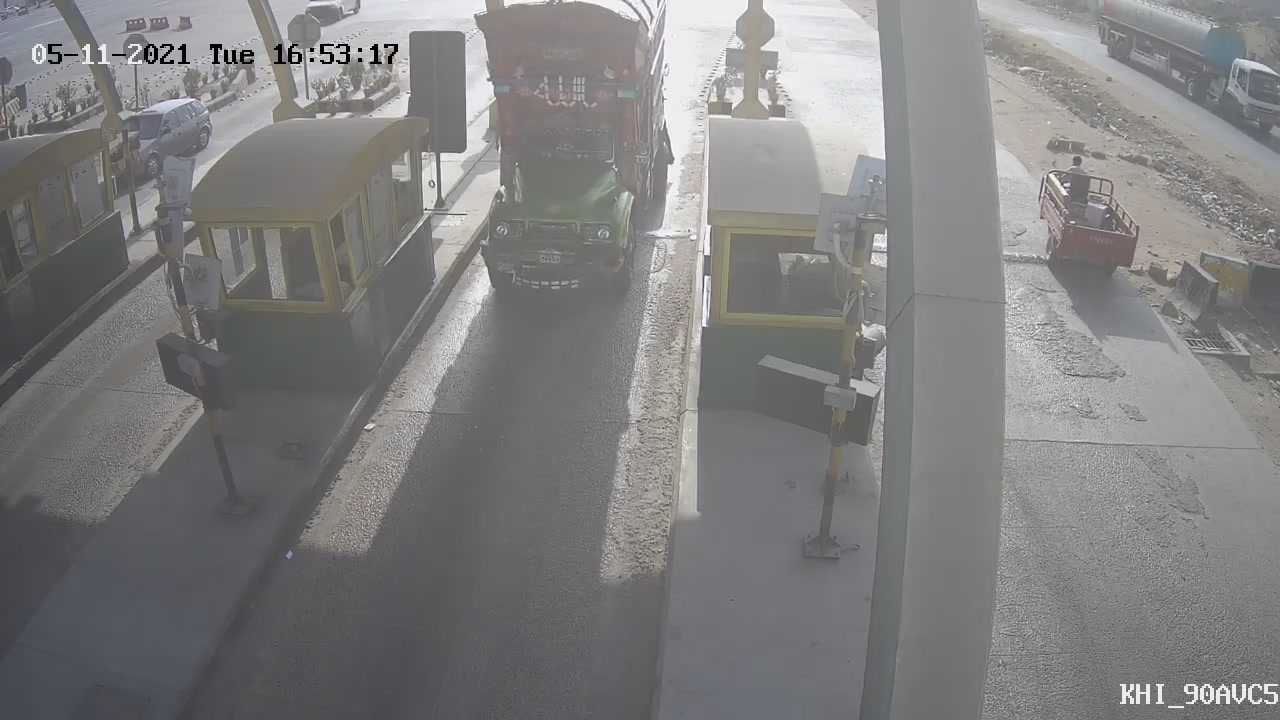F5: (450, 3, 690, 327)
